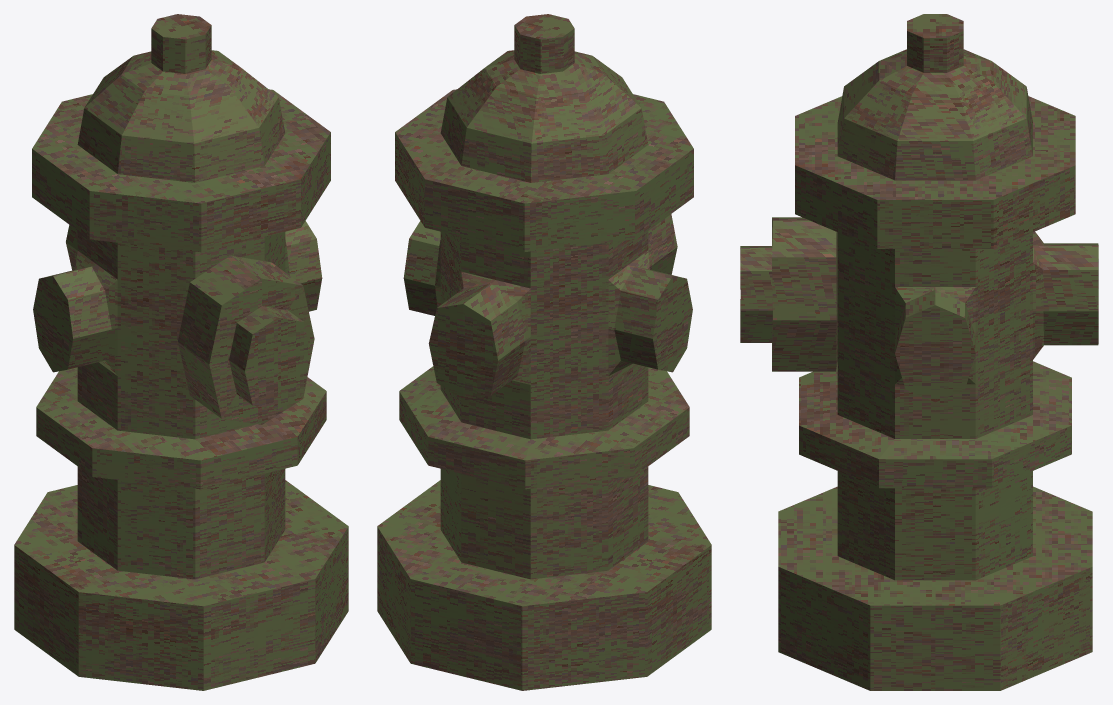
Rendered from fire_hydrant.gltf.
3 views of the same model, side by side, from view 1: azimuth 30°, elevation 25°; view 2: azimuth 150°, elevation 25°; view 3: azimuth 270°, elevation 25° (orthographic).
Parts seen in each view (by area): view 1: Cylinder; view 2: Cylinder; view 3: Cylinder.
Boxes of the visible parts, box(x1,y1,x2,y2) form: Cylinder: box(14, 14, 348, 690); Cylinder: box(377, 14, 711, 690); Cylinder: box(740, 14, 1098, 690).
Bounding box in the file's own units: 0.9475 × 1.99 × 1.08.
1 material, 1 textured.
